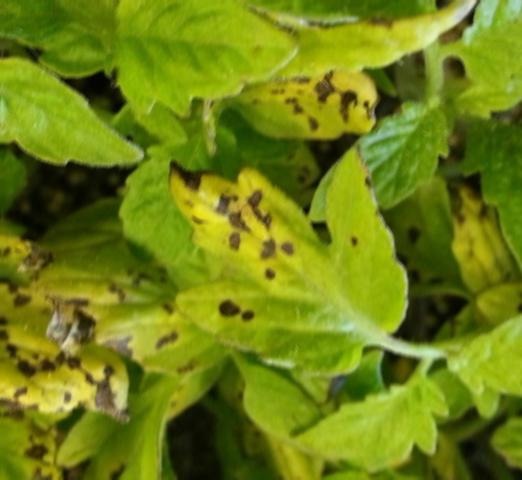Tomato leaf: (281, 378, 467, 463)
Tomato leaf bacterial spot: (164, 151, 426, 379), (205, 66, 396, 147)
